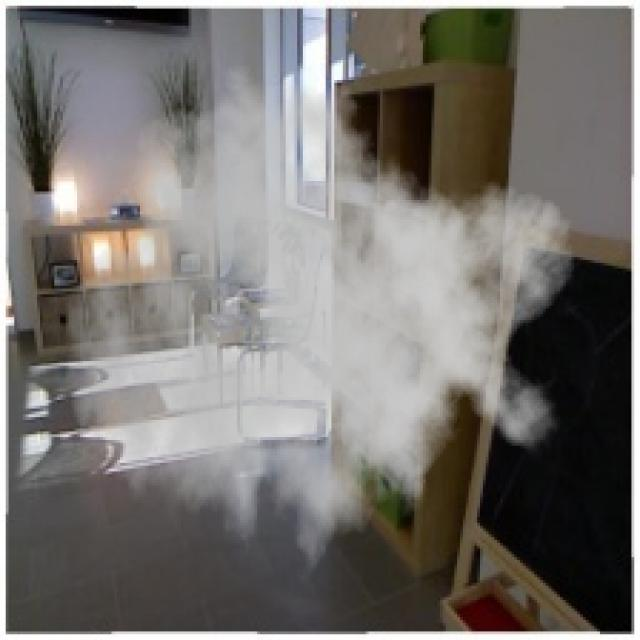smoke: (63, 51, 577, 594)
